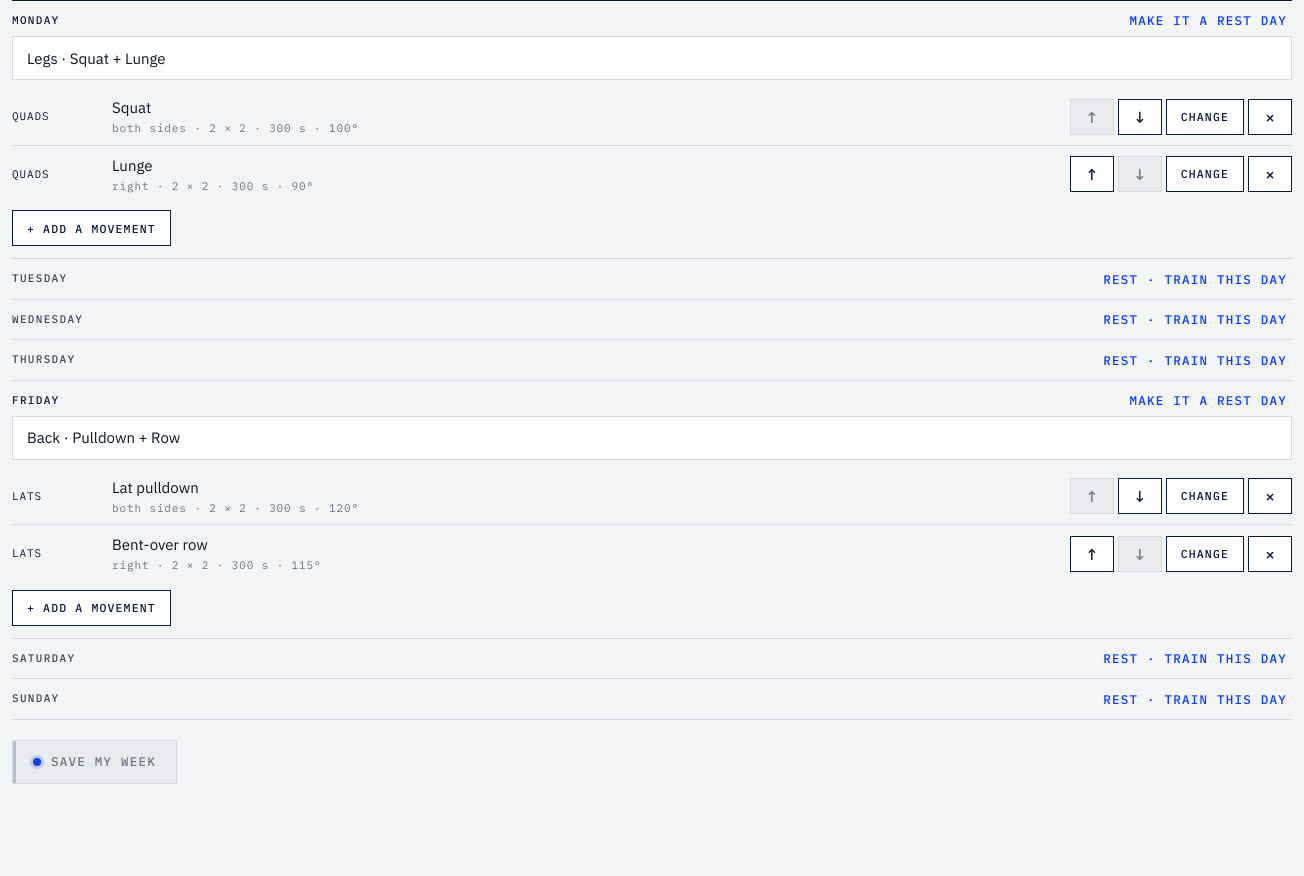
Test case: WeekEditor › keeps each goal inside its movement's range
Click the button "Change" in the row of "100".
click(1205, 117)  # box x1=1166 y1=99 x2=1244 y2=135
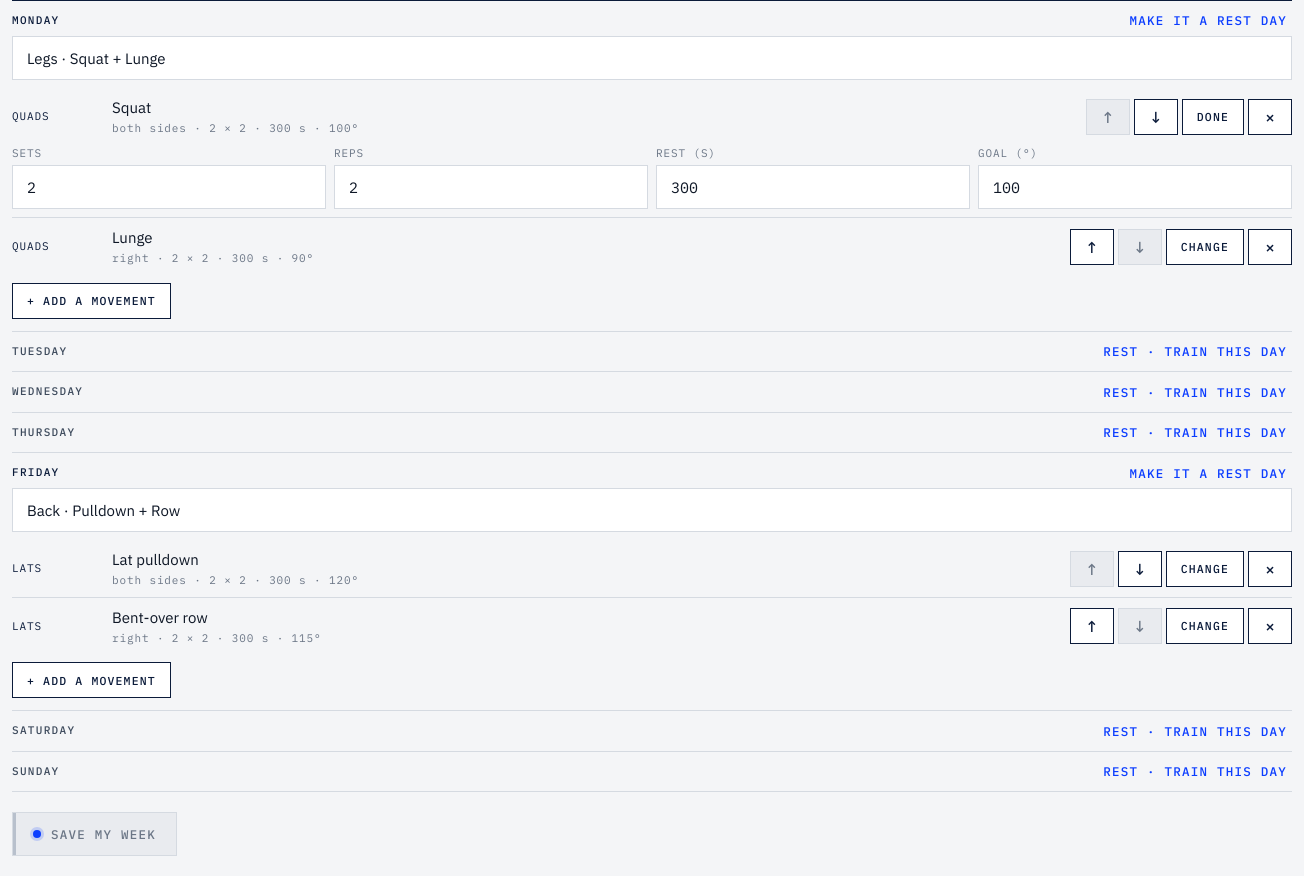
Replace the text in the number field labelled "Goal (°)" with "160" at (1135, 187), box x1=978 y1=165 x2=1292 y2=209
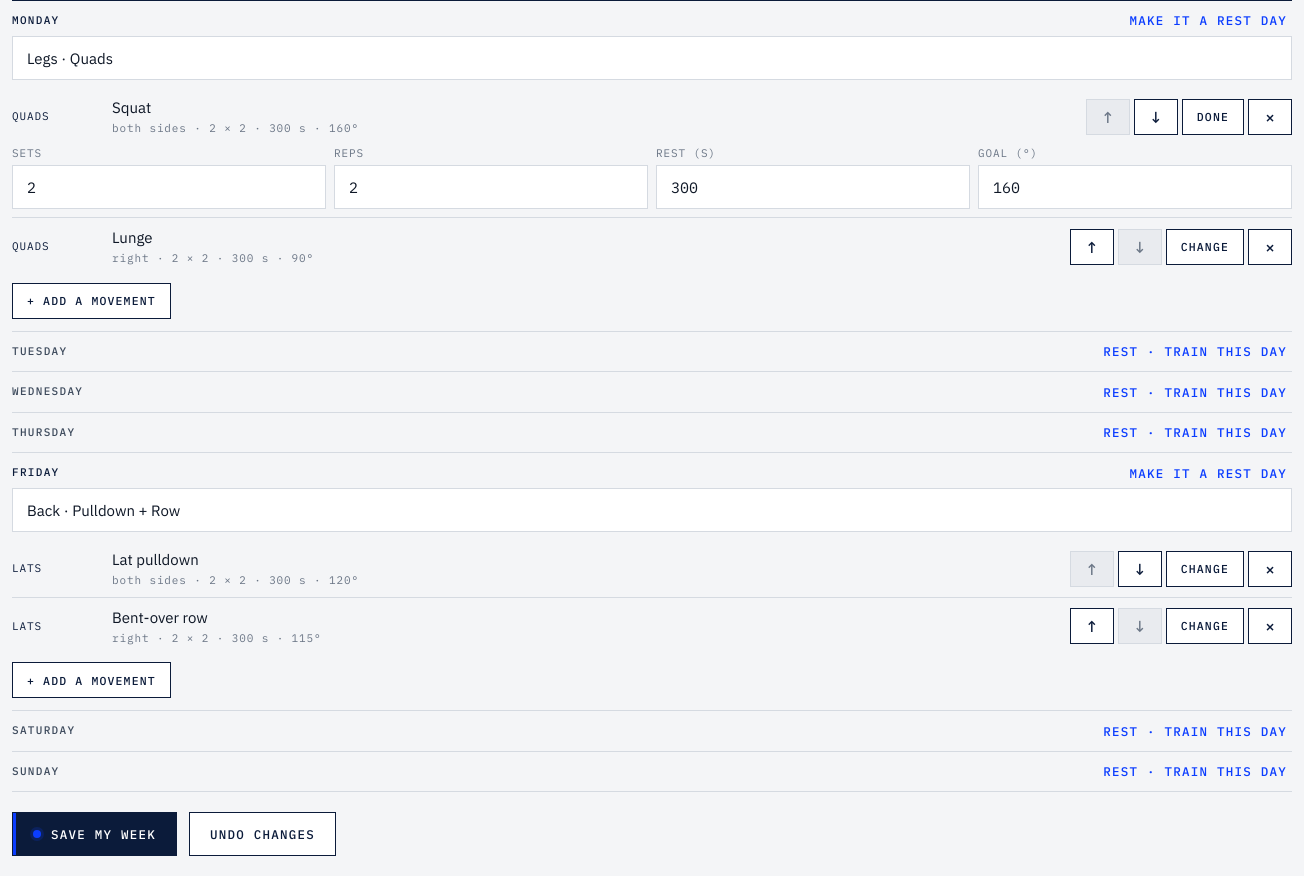
Click the button "Save my week".
click(94, 834)  # box x1=12 y1=812 x2=177 y2=856
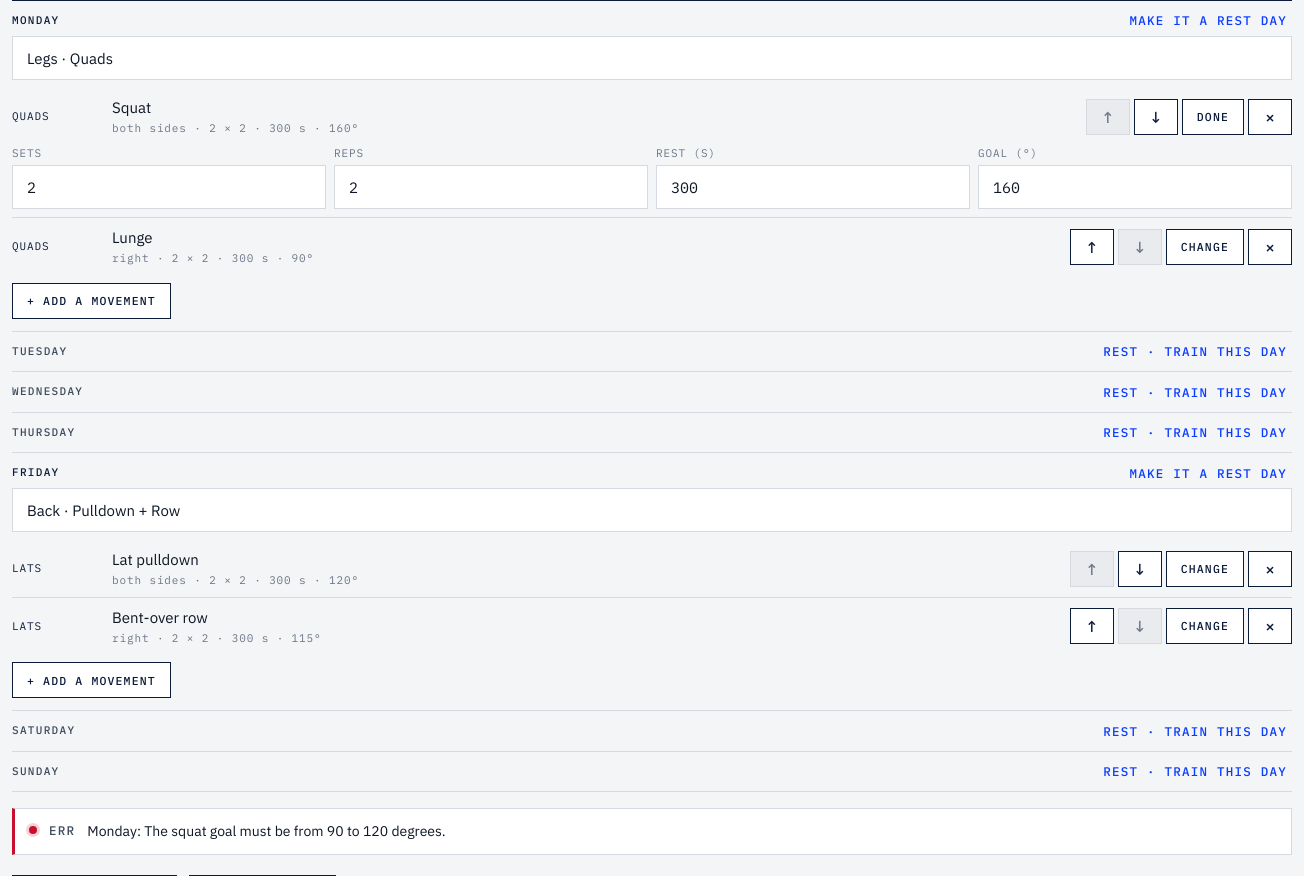
expect the message shows "Monday: The squat goal must be from 90 to 120 degrees.": met, box x1=87 y1=822 x2=446 y2=840
